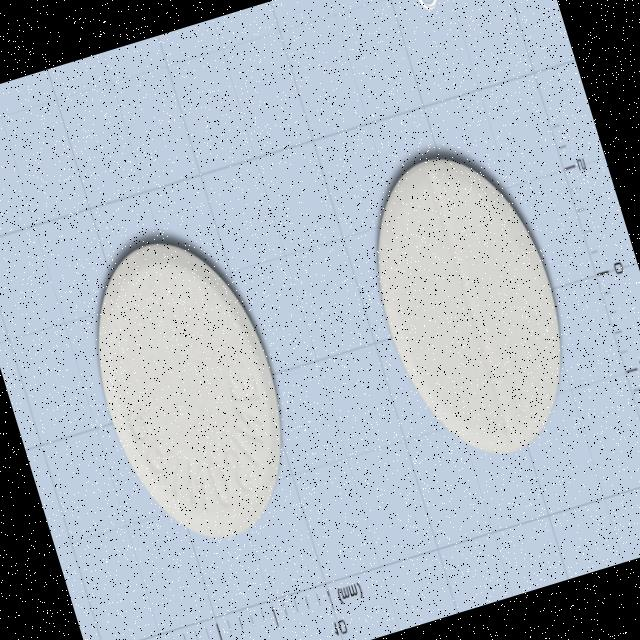Prinosine500mg: (64, 218, 316, 562), (345, 134, 595, 478)
